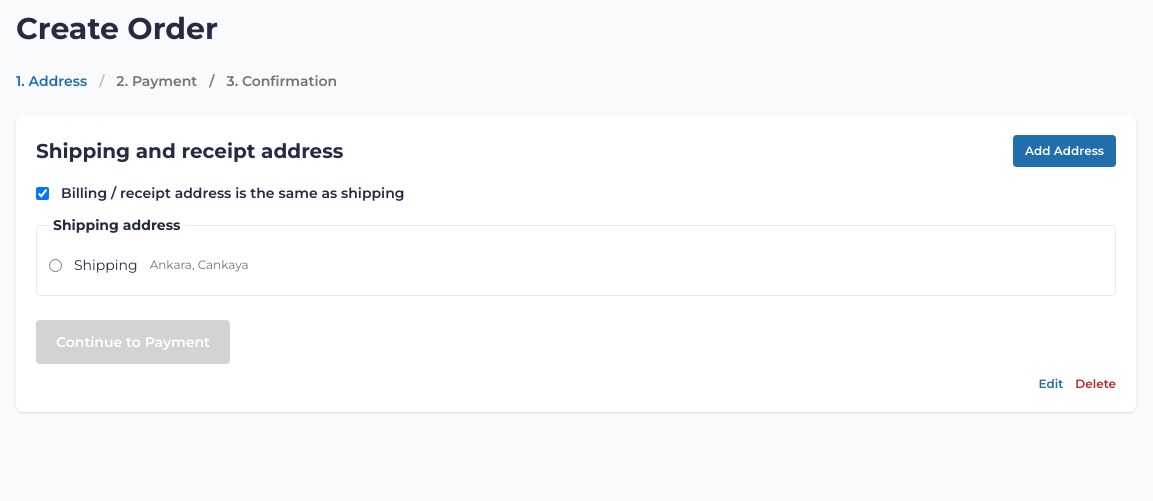
Scenario: rechecks canonical availability before order submission and retains the cart on a stock change
expect the text "Billing / receipt address is the same as shipping" is shown: met, box [36, 184, 404, 202]
Click the radio button labelled "Shipping Ankara, Cankaya" at (56, 265), box [49, 258, 62, 272]
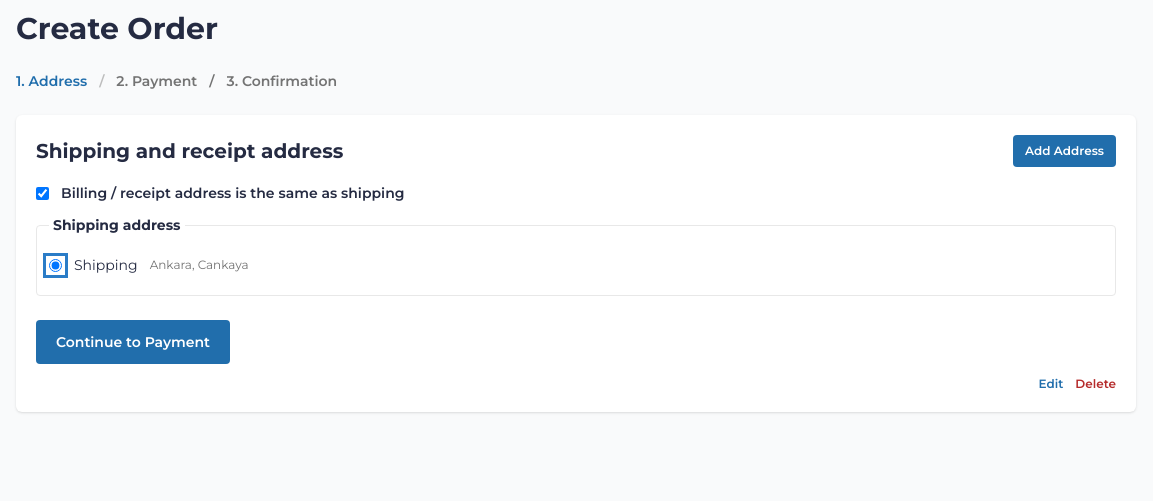
Click the button "Continue to Payment" at (133, 342), box [36, 320, 230, 364]
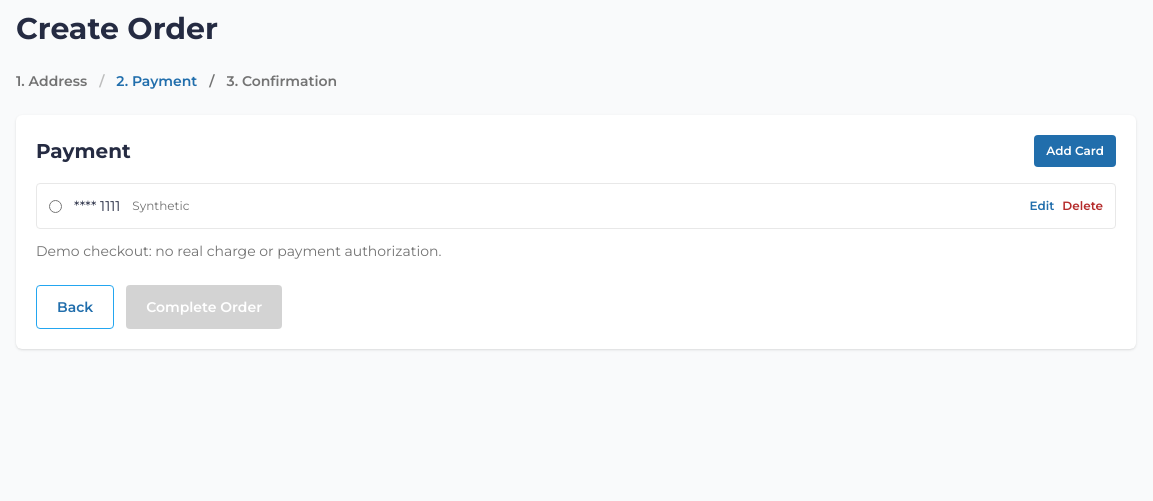
Click the radio button labelled "**** 1111 Synthetic" at (56, 206), box [49, 200, 62, 212]
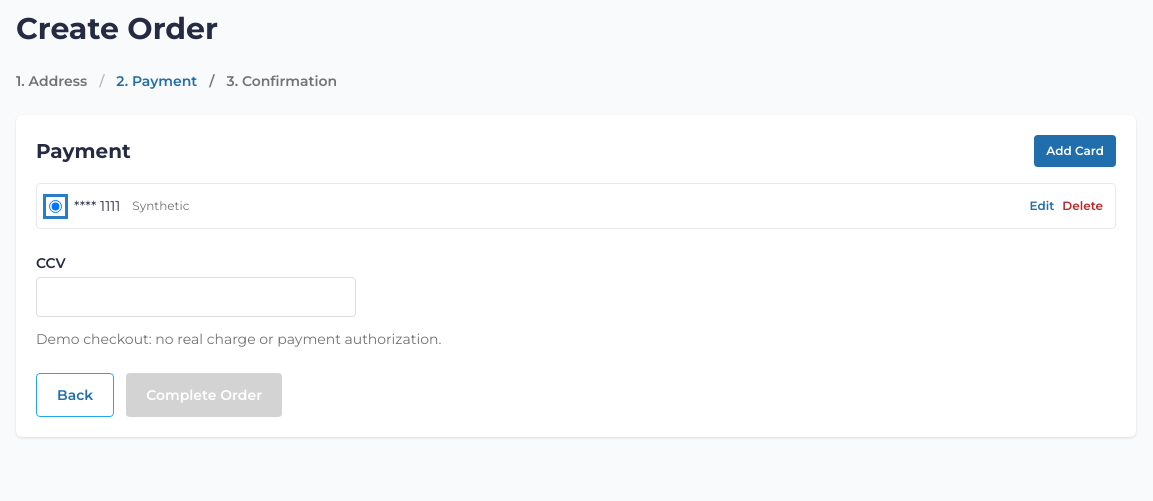
Type "123" into the password field labelled "CCV" at (196, 297), box [36, 277, 356, 317]
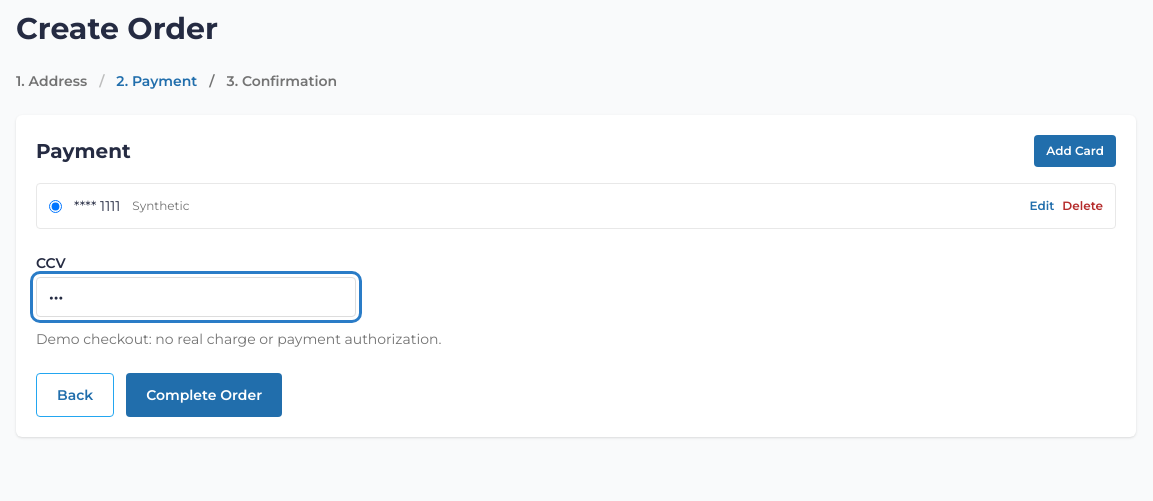
Click the button "Complete Order" at (204, 395), box [126, 373, 282, 417]
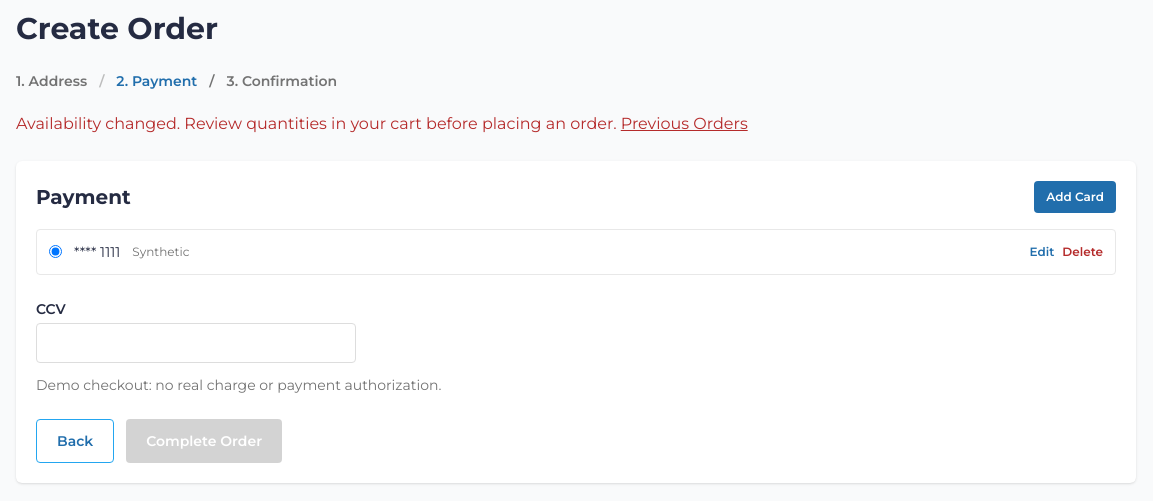
expect the text "Availability changed" is shown: met, box [16, 114, 616, 133]
expect the password field labelled "CCV" is empty: met, box [36, 323, 356, 363]
